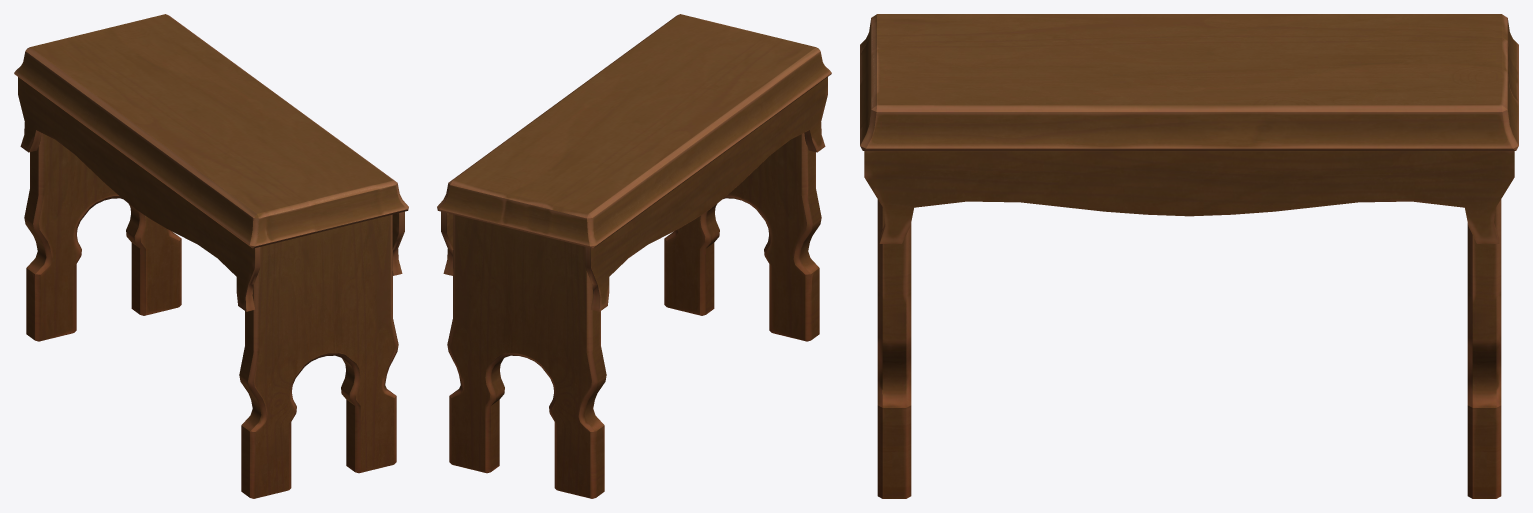
3 views of the same model, side by side, from view 1: azimuth 30°, elevation 25°; view 2: azimuth 150°, elevation 25°; view 3: azimuth 270°, elevation 25° (orthographic). The views are drawn at different scales.
Visible parts, largest first — view 1: MedievalChair01; view 2: MedievalChair01; view 3: MedievalChair01.
Part boxes in pixels (x1,y1,x2,y2): MedievalChair01: (14, 14, 408, 498); MedievalChair01: (437, 14, 831, 498); MedievalChair01: (860, 14, 1518, 498).
Bounding box in the file's own units: 0.4909 × 0.8431 × 1.28.
Materials: 1 (1 with a texture image).
